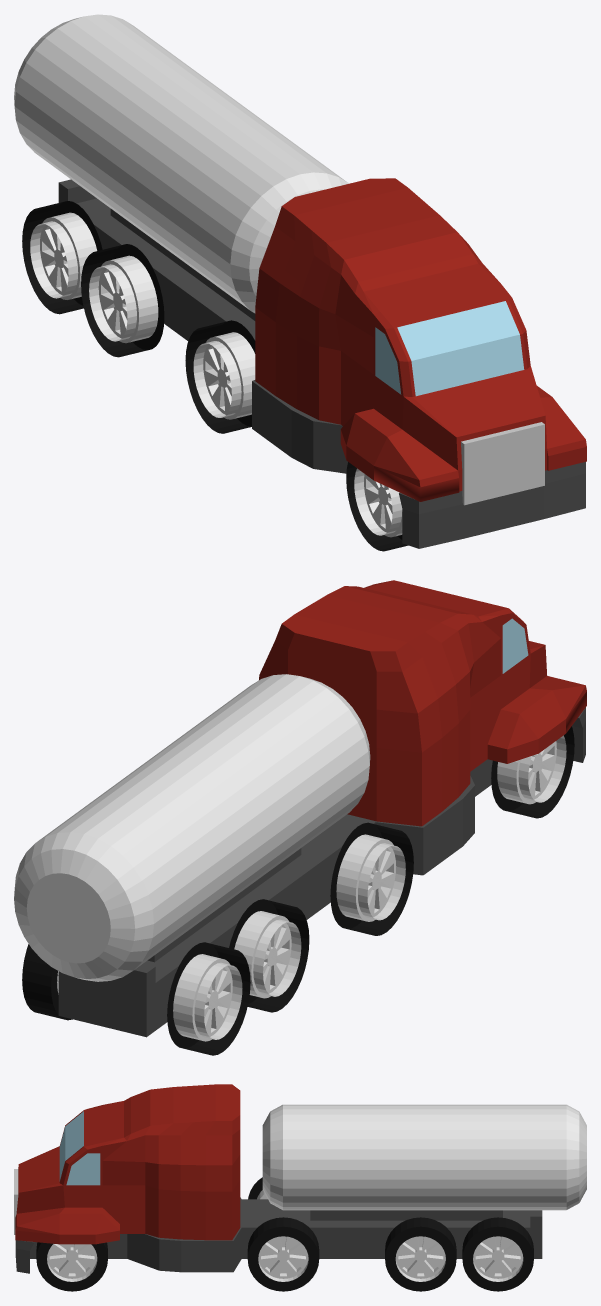
The model's file is BombCar.fbx.
3 renders of one model, top to bottom at view 1: azimuth 30°, elevation 25°; view 2: azimuth 150°, elevation 25°; view 3: azimuth 270°, elevation 25°, orthographic. The views are drawn at different scales.
Parts seen in each view (by area): view 1: Car Body, Gas, Base, Glass, Third Wheel, Second Wheel, Forth Wheel, Metal, First Wheel; view 2: Gas, Car Body, Base, Forth Wheel, Second Wheel, Third Wheel, First Wheel, Glass; view 3: Gas, Car Body, Base, Second Wheel, Third Wheel, Forth Wheel, First Wheel, Glass.
Part boxes in pixels (x1,y1,x2,y2): Car Body: (255,178,586,501); Gas: (14,14,348,313); Base: (58,179,585,548); Glass: (375,301,524,396); Third Wheel: (81,244,164,357); Second Wheel: (185,320,255,433); Forth Wheel: (22,201,102,314); Metal: (461,422,544,505); First Wheel: (346,462,408,551); Gas: (14,674,370,981); Car Body: (259,580,586,826); Base: (58,707,585,1037); Forth Wheel: (22,942,250,1055); Second Wheel: (330,822,413,935); Third Wheel: (229,899,309,1012); First Wheel: (491,726,574,818); Glass: (502,618,528,673); Gas: (262,1104,586,1210); Car Body: (15,1084,240,1244); Base: (15,1197,542,1273); Second Wheel: (247,1177,319,1291); Third Wheel: (385,1217,456,1291); Forth Wheel: (462,1217,533,1291); First Wheel: (36,1242,107,1291); Glass: (59,1111,100,1185).
Size of the model in its own units: 679 by 2667 by 827.
